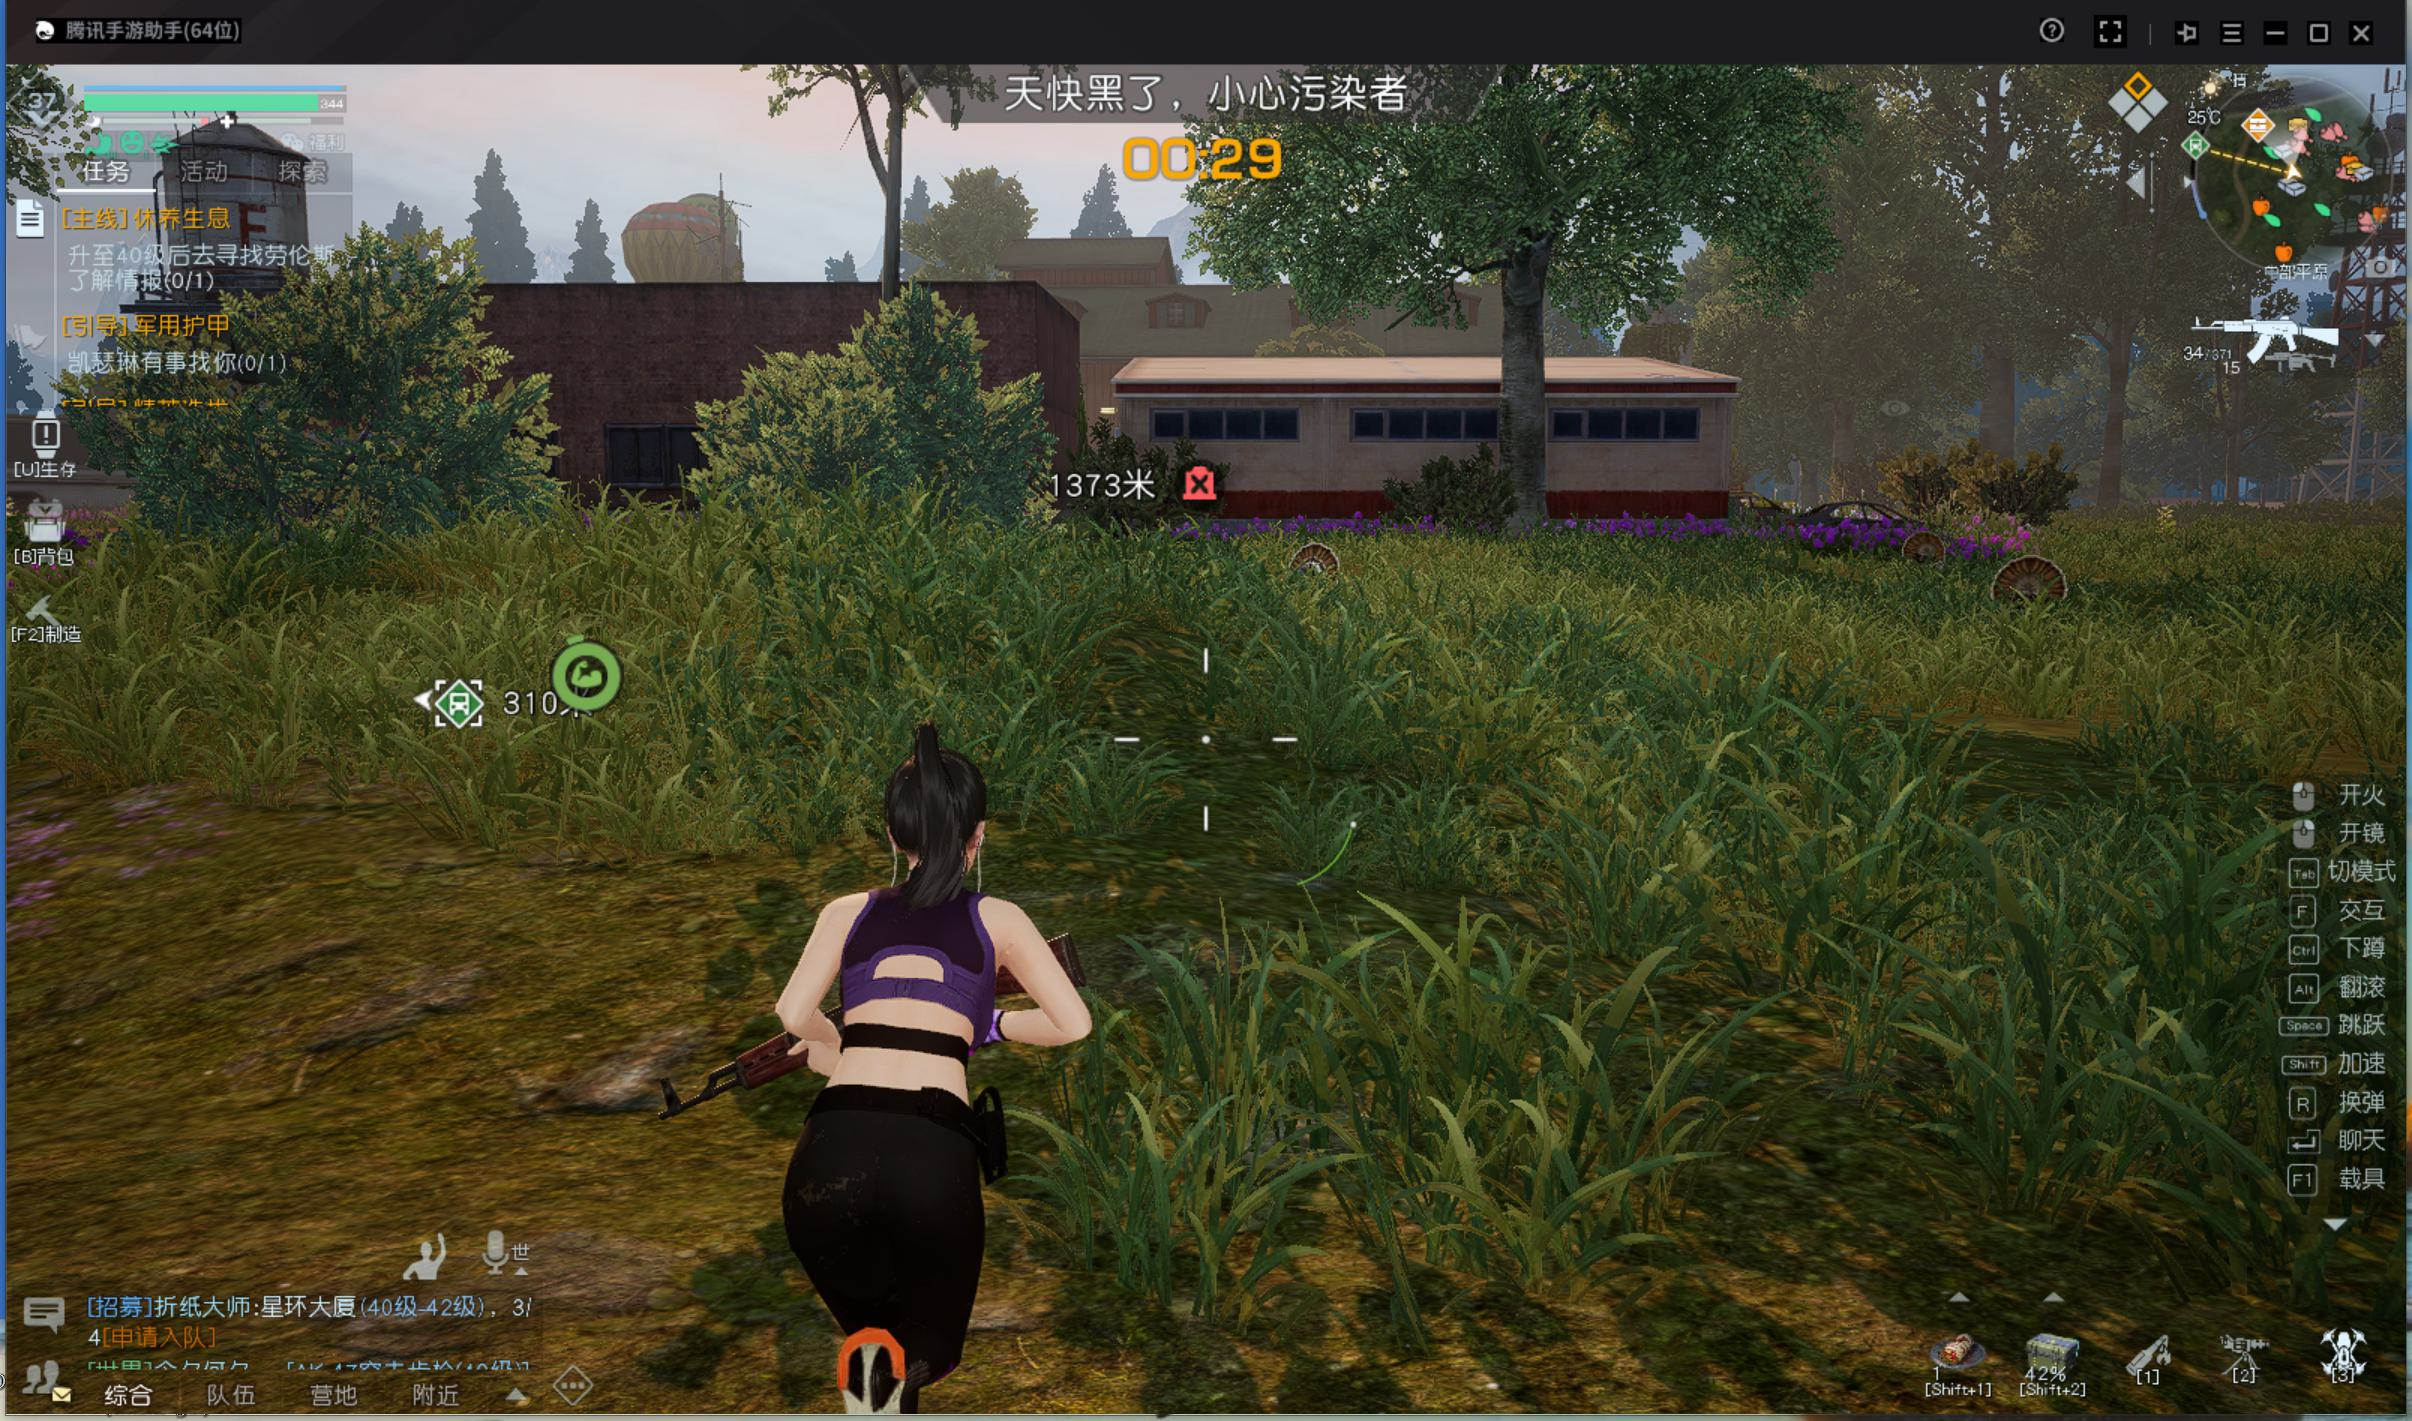tree: (1472, 293, 1580, 553), (1964, 343, 2035, 513), (2096, 365, 2133, 519)
